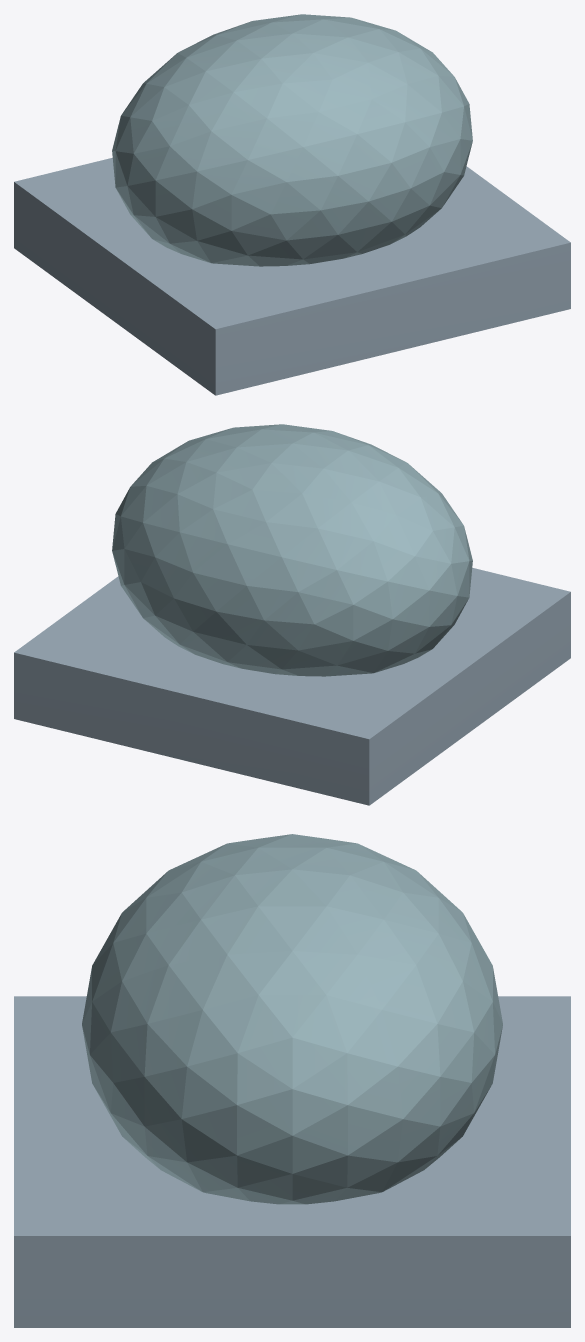
Rendered from stadium-01.glb.
3 renders of one model, top to bottom at view 1: azimuth 30°, elevation 25°; view 2: azimuth 150°, elevation 25°; view 3: azimuth 270°, elevation 25°, orthographic. The views are drawn at different scales.
Visible parts, largest first — view 1: world; view 2: world; view 3: world.
Part boxes in pixels (bbox=[...]): world: bbox=[14, 14, 570, 395]; world: bbox=[14, 424, 570, 805]; world: bbox=[14, 834, 570, 1327].
Bounding box in the file's own units: 1.12 × 0.738 × 1.1.
